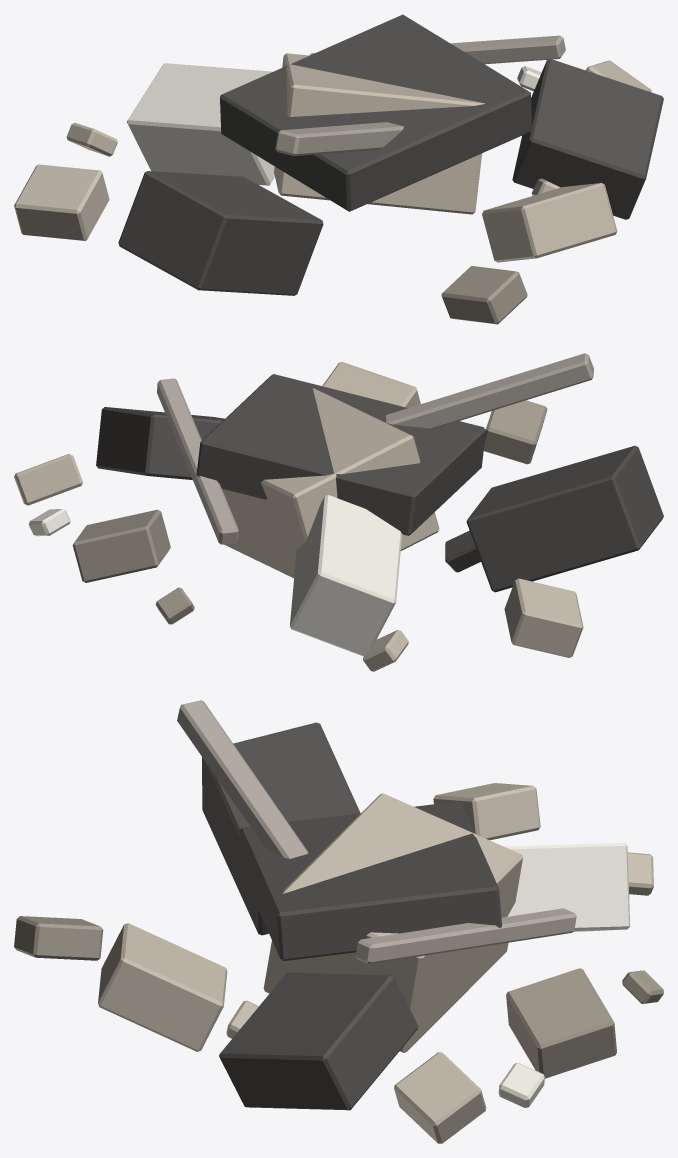
Rendered from TC_ENV_CoralRubble_V1.gltf.
3 renders of one model, top to bottom at view 1: azimuth 30°, elevation 25°; view 2: azimuth 150°, elevation 25°; view 3: azimuth 270°, elevation 25°, orthographic. The views are drawn at different scales.
Visible parts, largest first — view 1: TC_ENV_CoralRubble_V1; view 2: TC_ENV_CoralRubble_V1; view 3: TC_ENV_CoralRubble_V1.
Part boxes in pixels (x1,y1,x2,y2): TC_ENV_CoralRubble_V1: [14, 14, 663, 324]; TC_ENV_CoralRubble_V1: [14, 353, 663, 671]; TC_ENV_CoralRubble_V1: [14, 700, 663, 1143].
Bounding box in the file's own units: 4.43 × 1.36 × 3.75.
